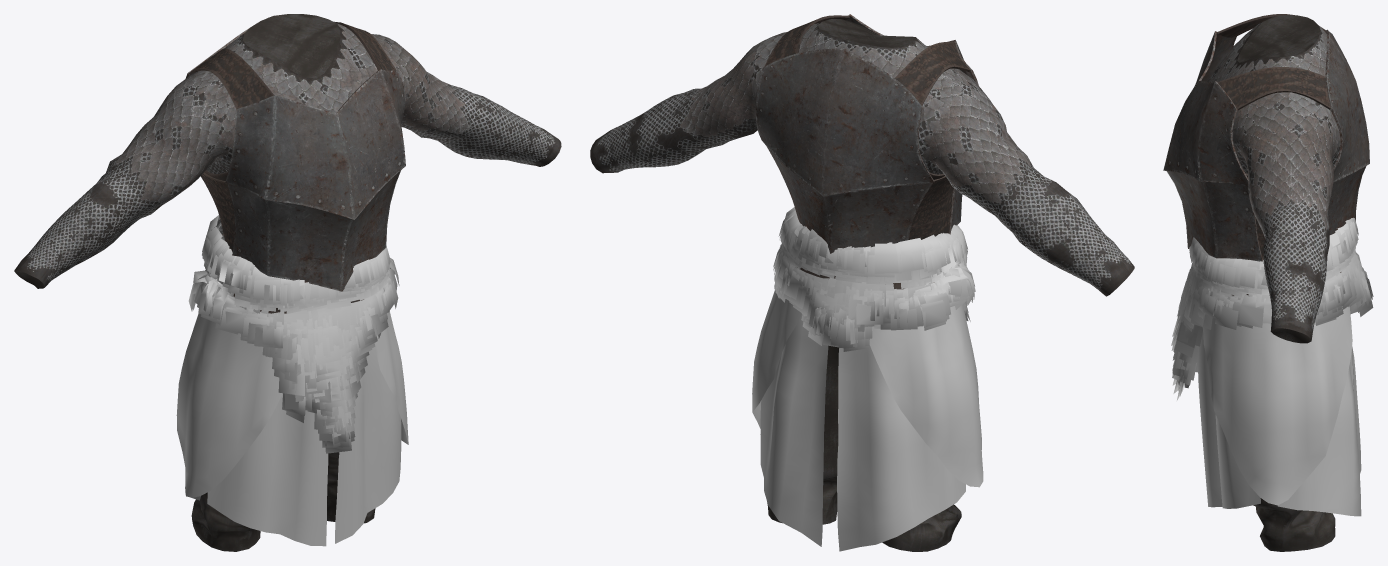
The model's file is sk_gb_uruk_chest_heavy_d.fbx.
The picture shows the model from 3 angles, left to right: view 1: azimuth 30°, elevation 25°; view 2: azimuth 150°, elevation 25°; view 3: azimuth 270°, elevation 25°; orthographic projection. The views are drawn at different scales.
Parts seen in each view (by area): view 1: sk_gb_uruk_chest_heavy_d.base.0, sk_gb_uruk_chest_heavy_d.base.1, sk_gb_uruk_chest_heavy_d.skirt.1, sk_gb_uruk_chest_heavy_d.skirt.2; view 2: sk_gb_uruk_chest_heavy_d.skirt.1, sk_gb_uruk_chest_heavy_d.base.0, sk_gb_uruk_chest_heavy_d.base.1, sk_gb_uruk_chest_heavy_d.skirt.2; view 3: sk_gb_uruk_chest_heavy_d.skirt.1, sk_gb_uruk_chest_heavy_d.base.0, sk_gb_uruk_chest_heavy_d.base.1, sk_gb_uruk_chest_heavy_d.skirt.2.
Part boxes in pixels (x1,y1,x2,y2): sk_gb_uruk_chest_heavy_d.base.0: (14,14,561,551); sk_gb_uruk_chest_heavy_d.base.1: (185,17,405,291); sk_gb_uruk_chest_heavy_d.skirt.1: (176,311,408,546); sk_gb_uruk_chest_heavy_d.skirt.2: (188,215,399,453); sk_gb_uruk_chest_heavy_d.skirt.1: (752,290,983,551); sk_gb_uruk_chest_heavy_d.base.0: (590,19,1134,551); sk_gb_uruk_chest_heavy_d.base.1: (756,14,978,253); sk_gb_uruk_chest_heavy_d.skirt.2: (773,207,975,351); sk_gb_uruk_chest_heavy_d.skirt.1: (1198,306,1361,516); sk_gb_uruk_chest_heavy_d.base.0: (1207,15,1340,551); sk_gb_uruk_chest_heavy_d.base.1: (1163,14,1369,261); sk_gb_uruk_chest_heavy_d.skirt.2: (1171,217,1373,400).
Size of the model in its own units: 1.35 by 0.4712 by 1.2.
